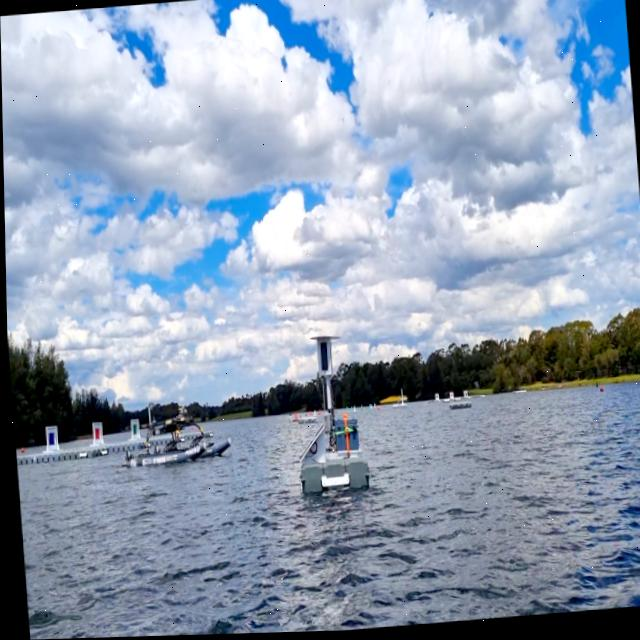led: (317, 342, 328, 375)
